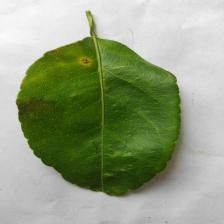canker: (63, 53, 116, 88)
